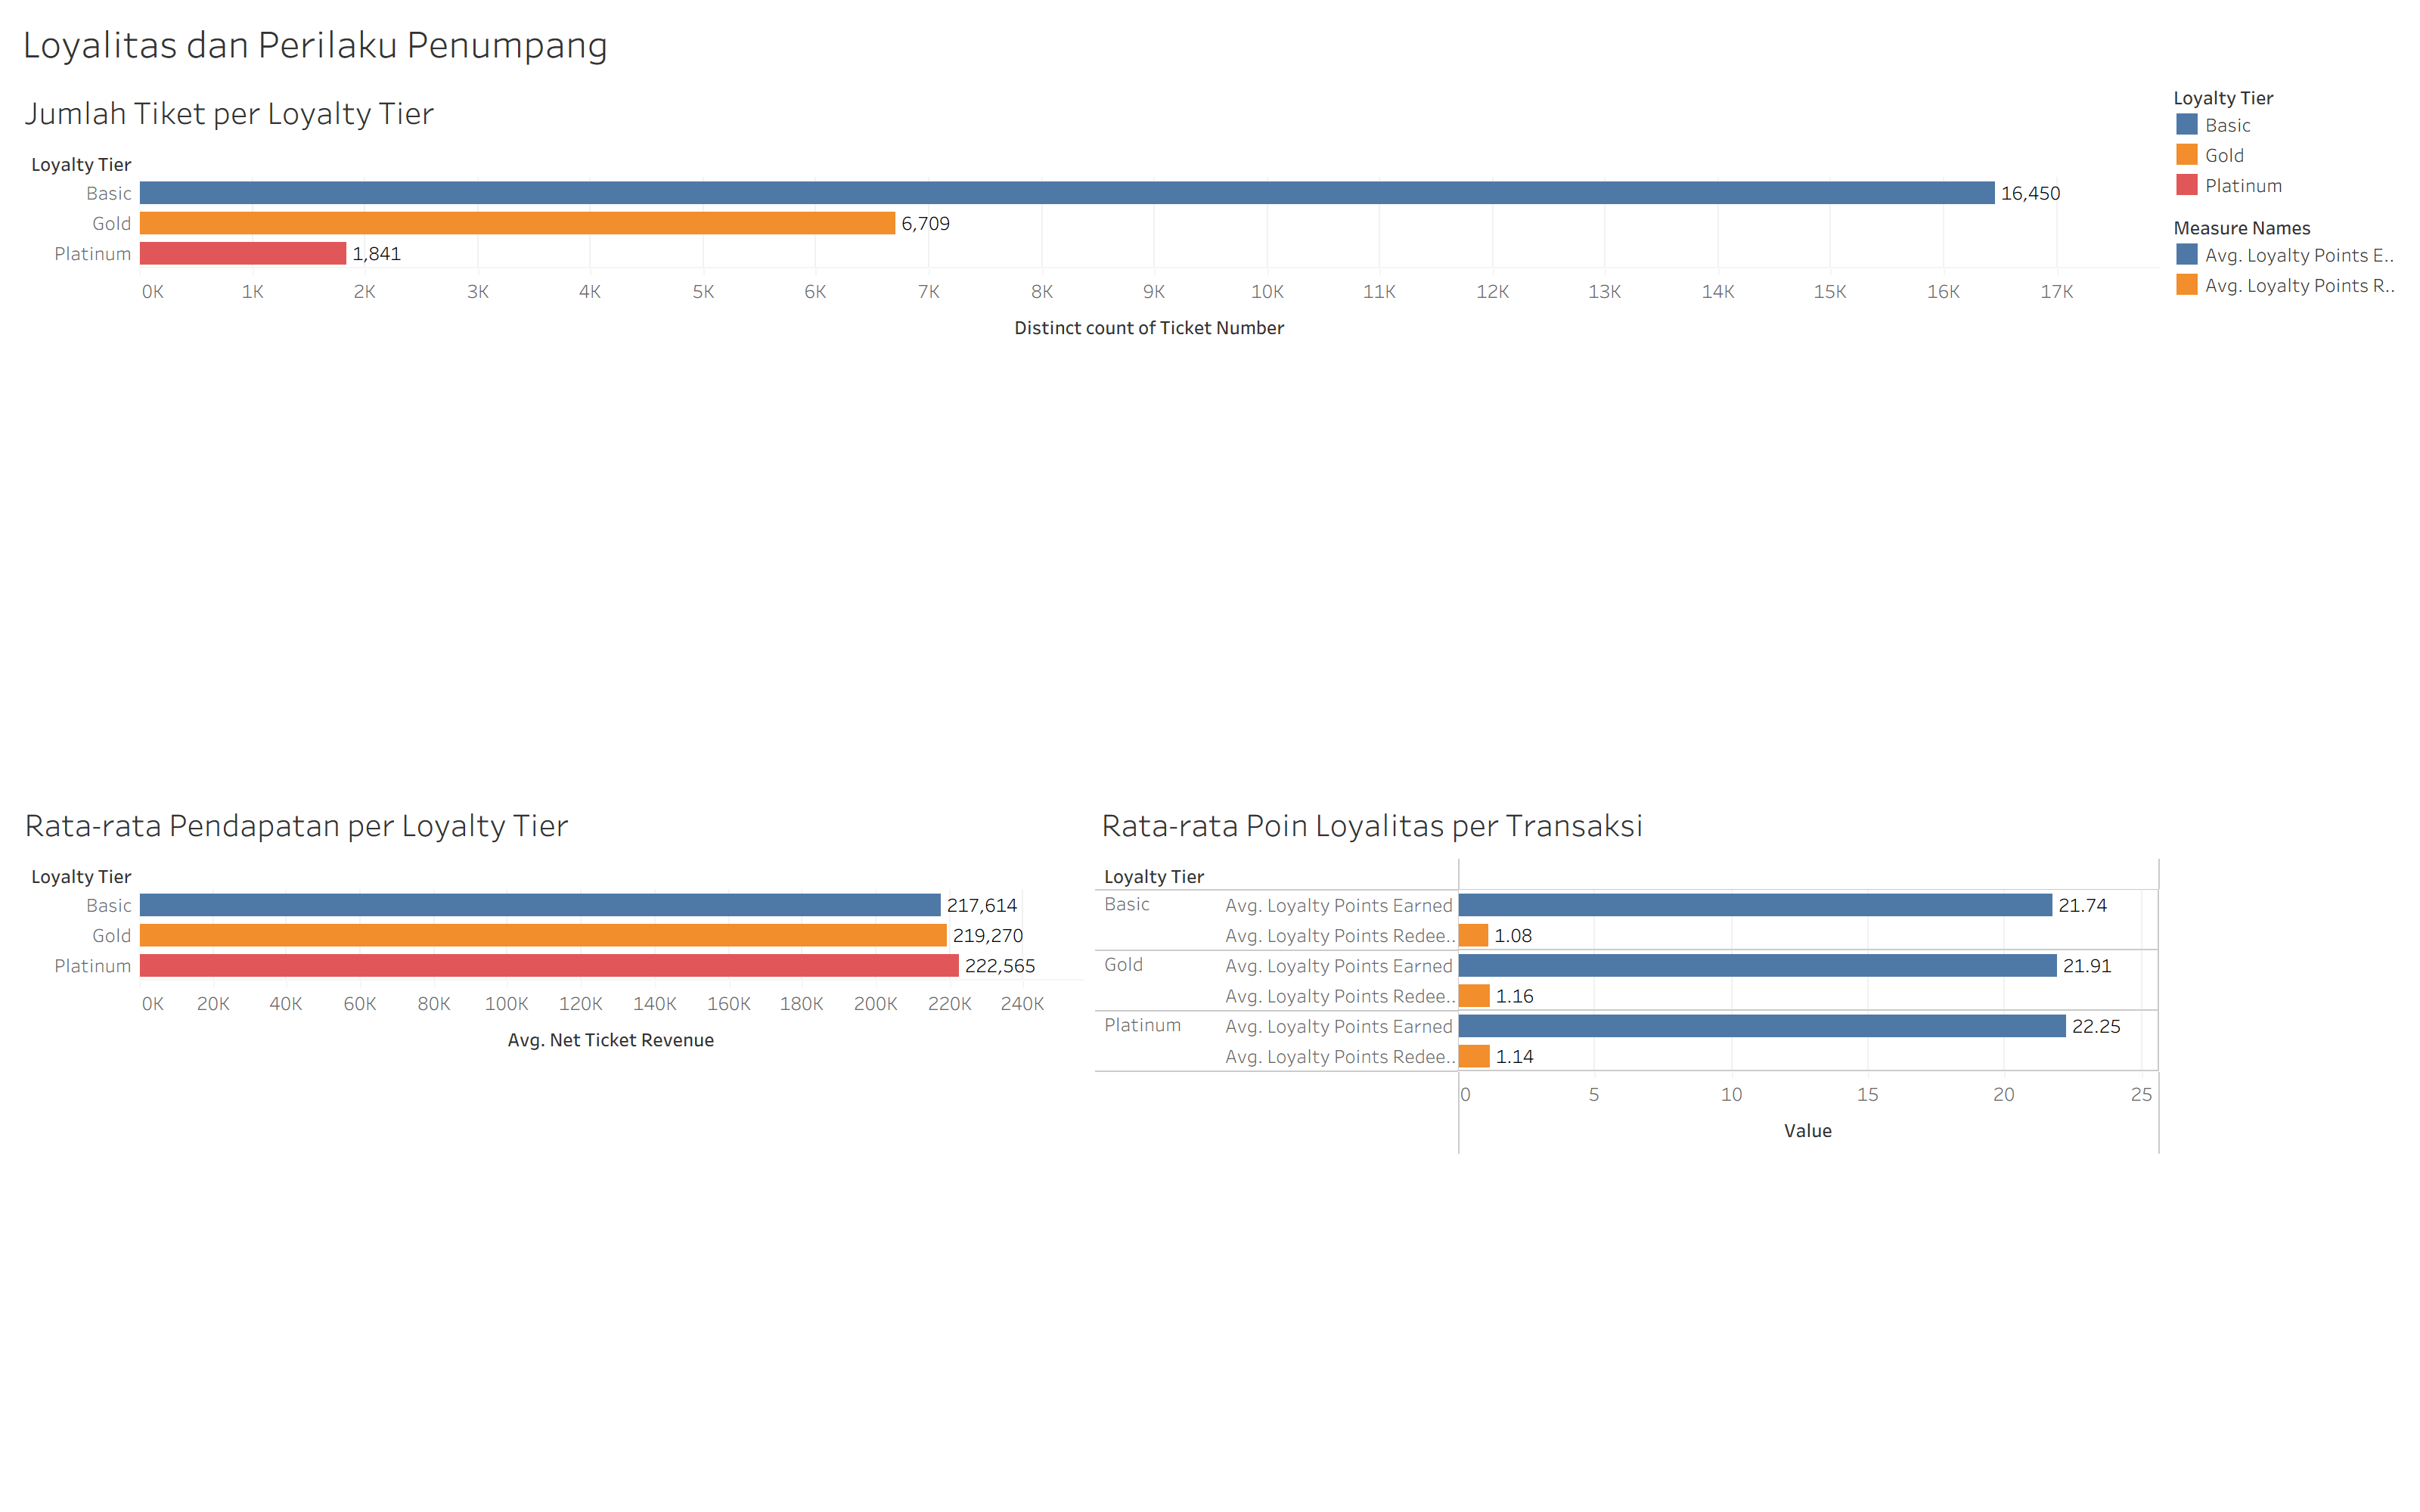

Layout of this report page (visuals, bound fields, positions):
{"tool":"tableau","page":{"name":"Loyalitas dan Perilaku Penumpang","canvas":[1600,1000],"ordinal":2},"visuals":[{"type":"title","box":[8,8,1584,42]},{"type":"worksheet","title":"Jumlah Tiket per Loyalty Tier","mark":"Bar","rows":["loyalty_tier"],"cols":["ticket_number"],"box":[8,50,1424,471]},{"type":"legend","title":"Jumlah Tiket per Loyalty Tier","param":"[federated.0d1te330e76vyu173vx0q1jgoqs2].[none:loyalty_tier:nk]","box":[1432,50,160,86]},{"type":"legend","title":"Rata-rata Poin Loyalitas per Transaksi","param":"[federated.0d1te330e76vyu173vx0q1jgoqs2].[:Measure Names]","box":[1432,136,160,66]},{"type":"worksheet","title":"Rata-rata Pendapatan per Loyalty Tier","mark":"Bar","rows":["loyalty_tier"],"cols":["net_ticket_revenue"],"box":[8,521,712,471]},{"type":"worksheet","title":"Rata-rata Poin Loyalitas per Transaksi","mark":"Bar","rows":["loyalty_tier"],"box":[720,521,712,471]}]}

Visuals, with their boxes in screenshot pixels (x1, y1, x2, y2), scaled from the page's 1600x1000 canvas onto the 2420x1512 screenshot:
title: region(12, 12, 2408, 76)
"Jumlah Tiket per Loyalty Tier" worksheet (Bar marks): region(12, 76, 2166, 788)
"Jumlah Tiket per Loyalty Tier" legend: region(2166, 76, 2408, 206)
"Rata-rata Poin Loyalitas per Transaksi" legend: region(2166, 206, 2408, 305)
"Rata-rata Pendapatan per Loyalty Tier" worksheet (Bar marks): region(12, 788, 1089, 1500)
"Rata-rata Poin Loyalitas per Transaksi" worksheet (Bar marks): region(1089, 788, 2166, 1500)
